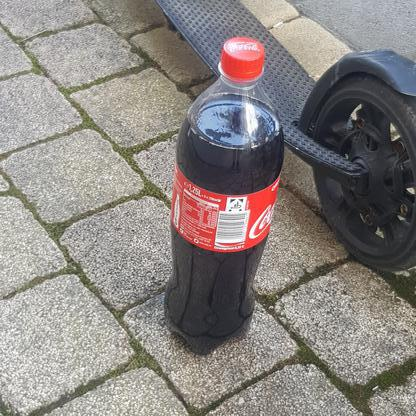coca-cola: (160, 35, 286, 361)
